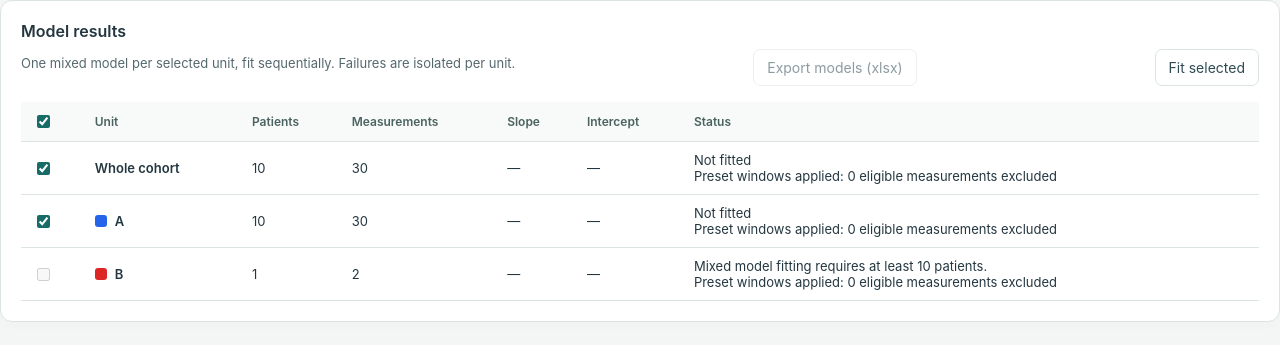
Test: CohortModelTable › rounds slope and intercept like the preview legend
The image size is (1280, 345).
Click the button "Fit selected". click: point(1207, 68)
box: [1154,49,1259,86]
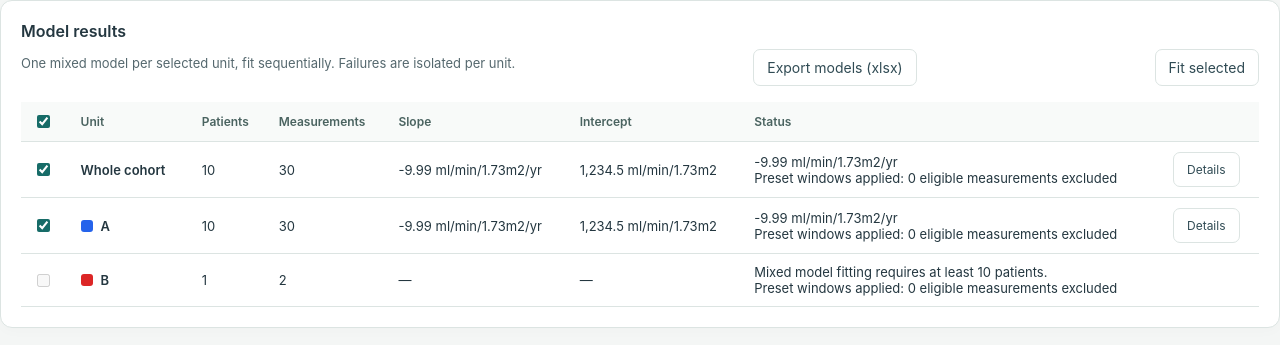
Check: the cell with test id "cohort-model-status" in the row of "Whole cohort" shows "/yr", box [742,142,1161,198]
Check: the cell "-9.99 ml/min/1.73m2/yr" in the row of "Whole cohort" is shown, box [398,162,542,178]
